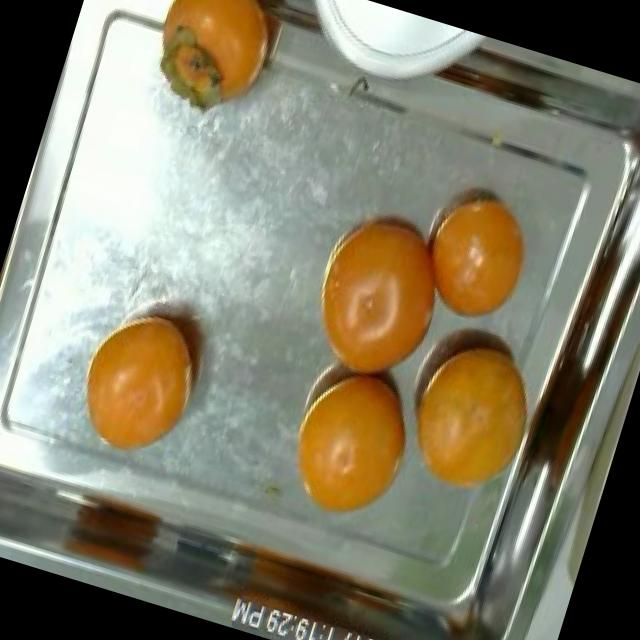Fruit: (288, 175, 478, 405), (269, 346, 437, 542), (389, 321, 552, 518), (62, 289, 226, 477), (394, 170, 554, 344), (122, 0, 308, 141), (38, 464, 184, 598)
